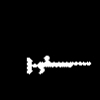double_crochet: (27, 56, 90, 73)
